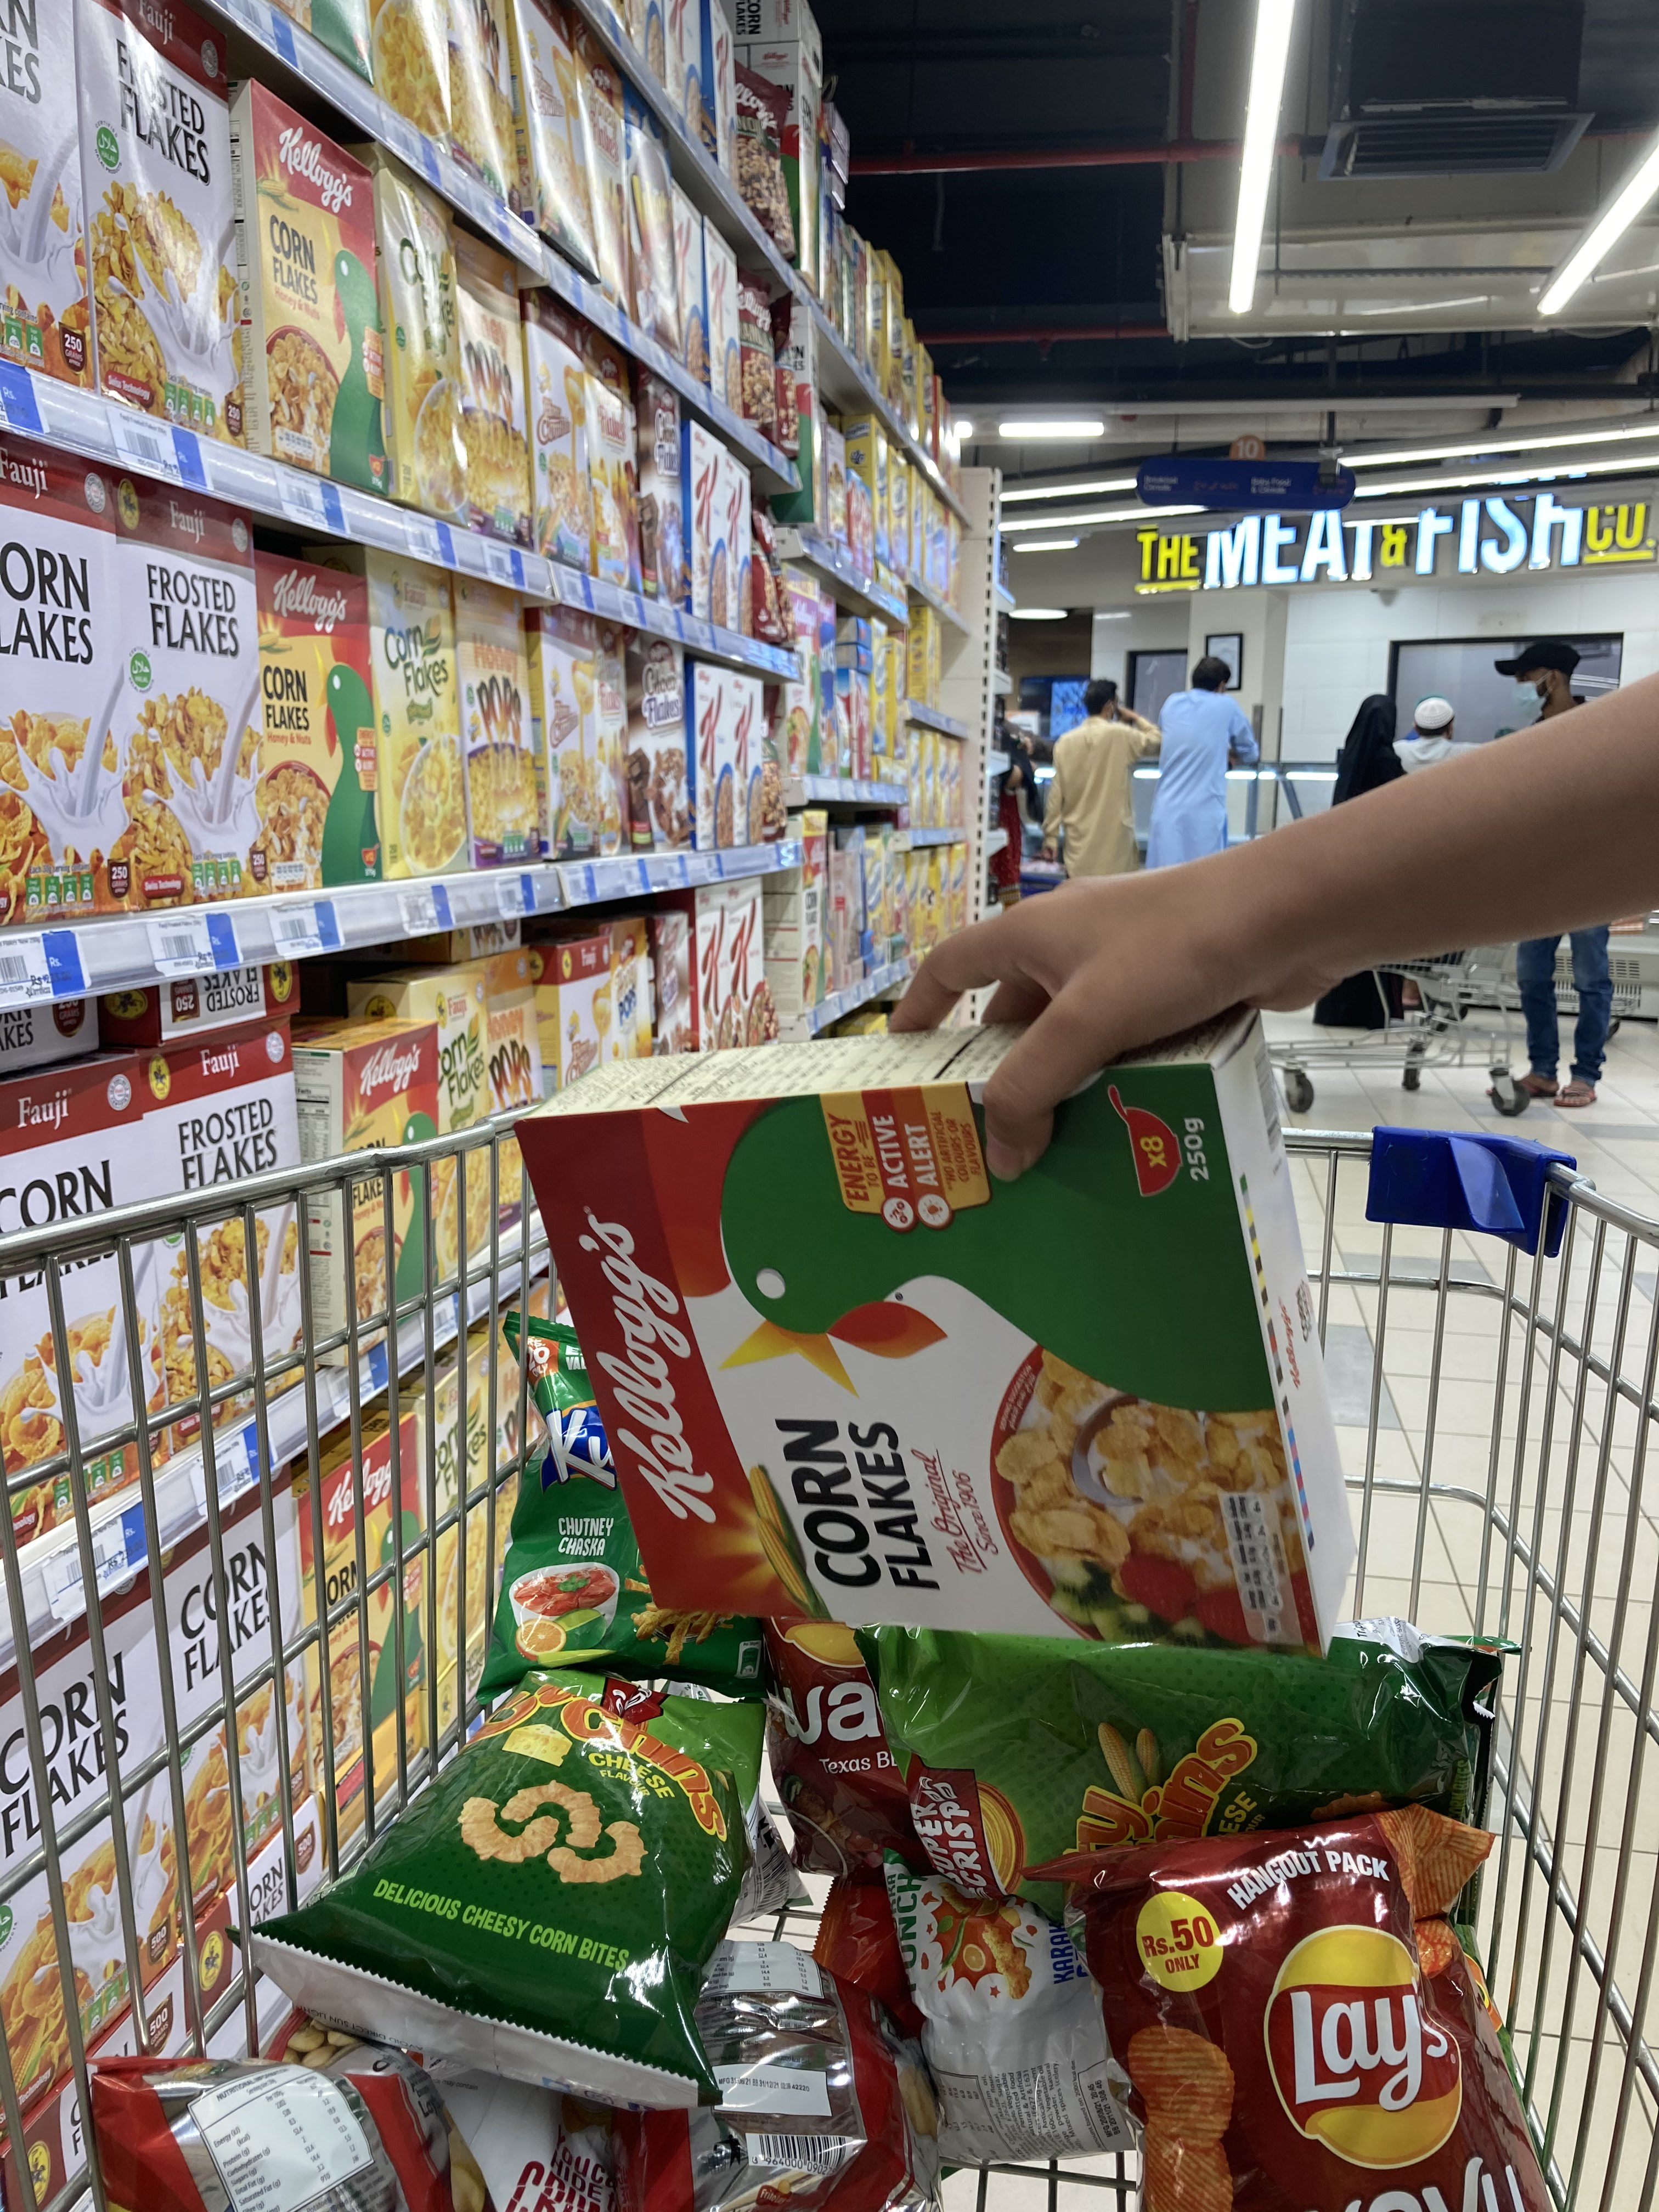Kellogg's Corn Flakes: (505, 1031, 1384, 1658)
